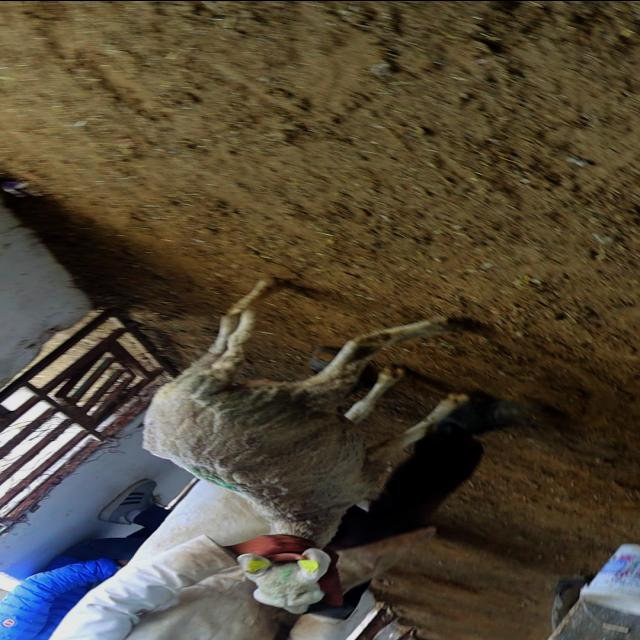Score_1: (143, 277, 471, 613)
